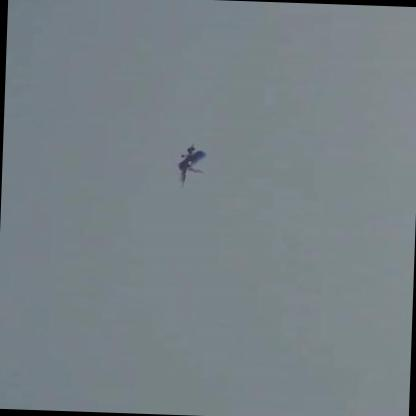plane: (174, 140, 207, 189)
